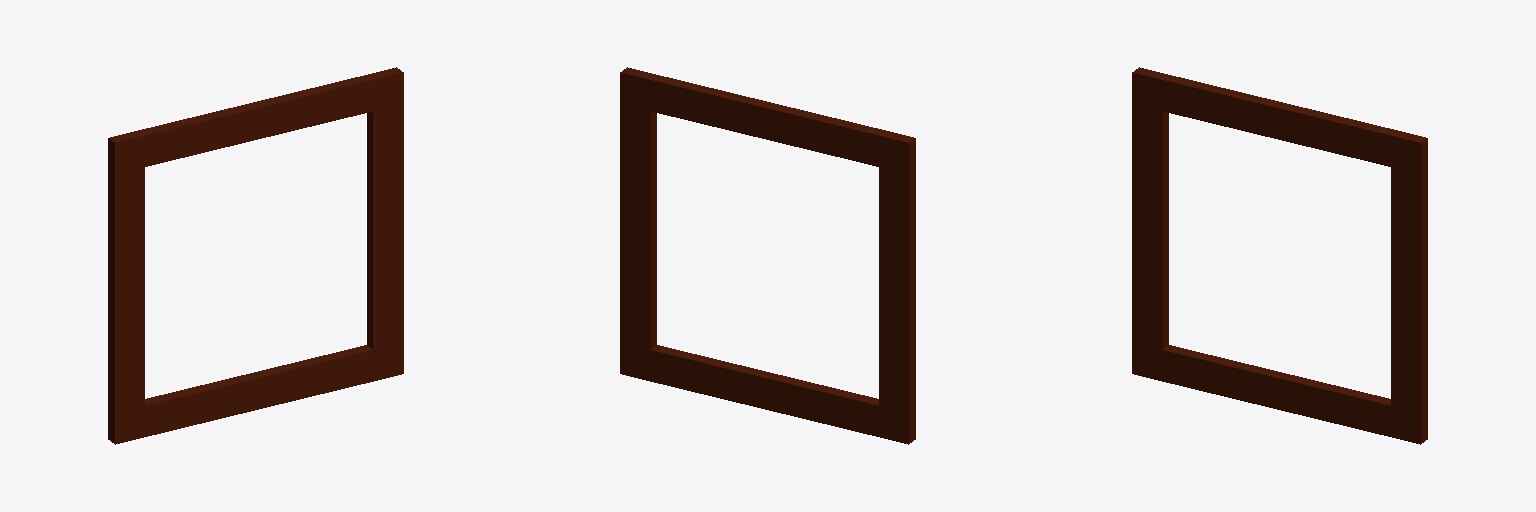
The model's file is kozijn.obj.
The picture shows the model from 3 angles: view 1: azimuth 30°, elevation 25°; view 2: azimuth 150°, elevation 25°; view 3: azimuth 330°, elevation 25°; orthographic projection.
Parts seen in each view (by area): view 1: Cube; view 2: Cube; view 3: Cube.
Part boxes in pixels (x1,y1,x2,y2): Cube: (108,67,403,444); Cube: (620,67,915,444); Cube: (1132,67,1427,444).
Bounding box in the file's own units: 1.04 × 1.04 × 0.0428.